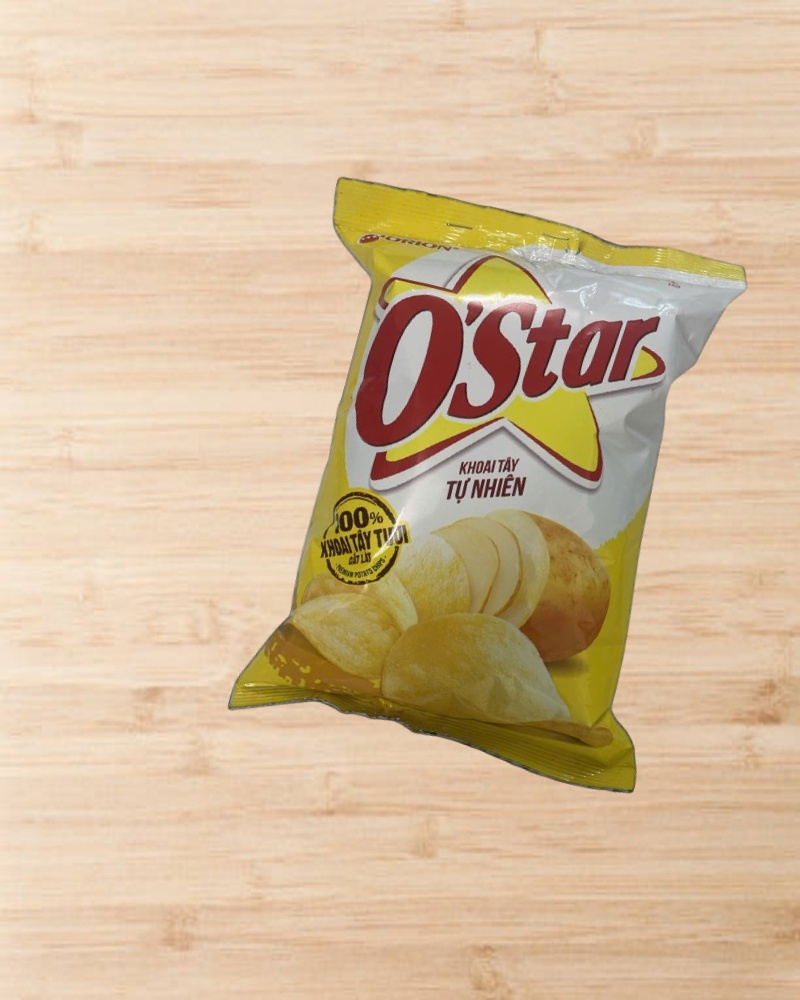O'star: (200, 160, 772, 816)
